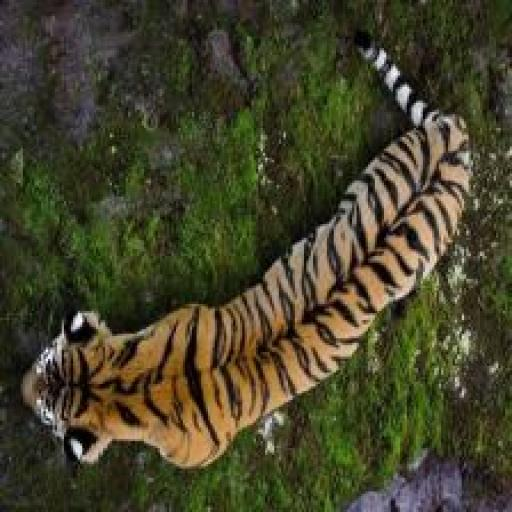Tiger: (16, 18, 479, 500)
